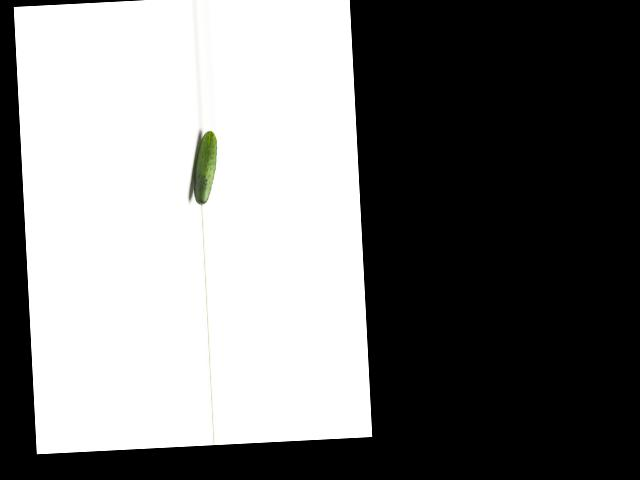cucumber: (190, 131, 220, 206)
